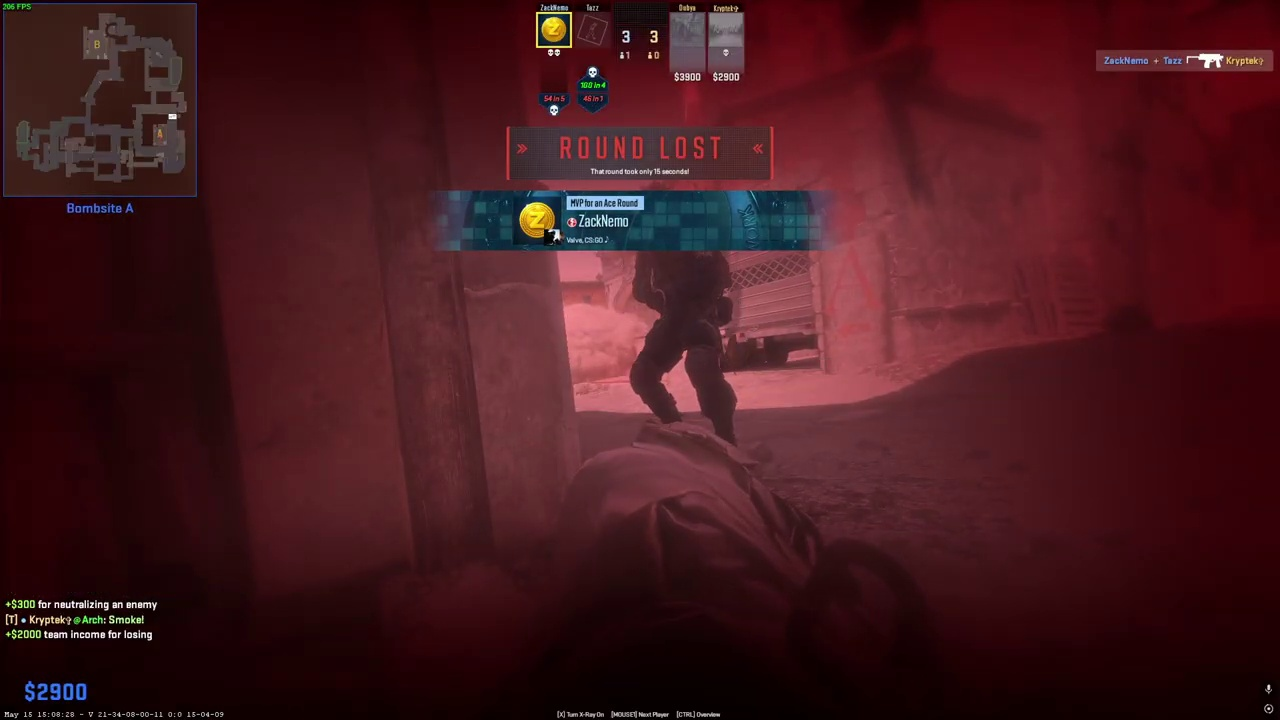CT: (628, 247, 740, 450)
